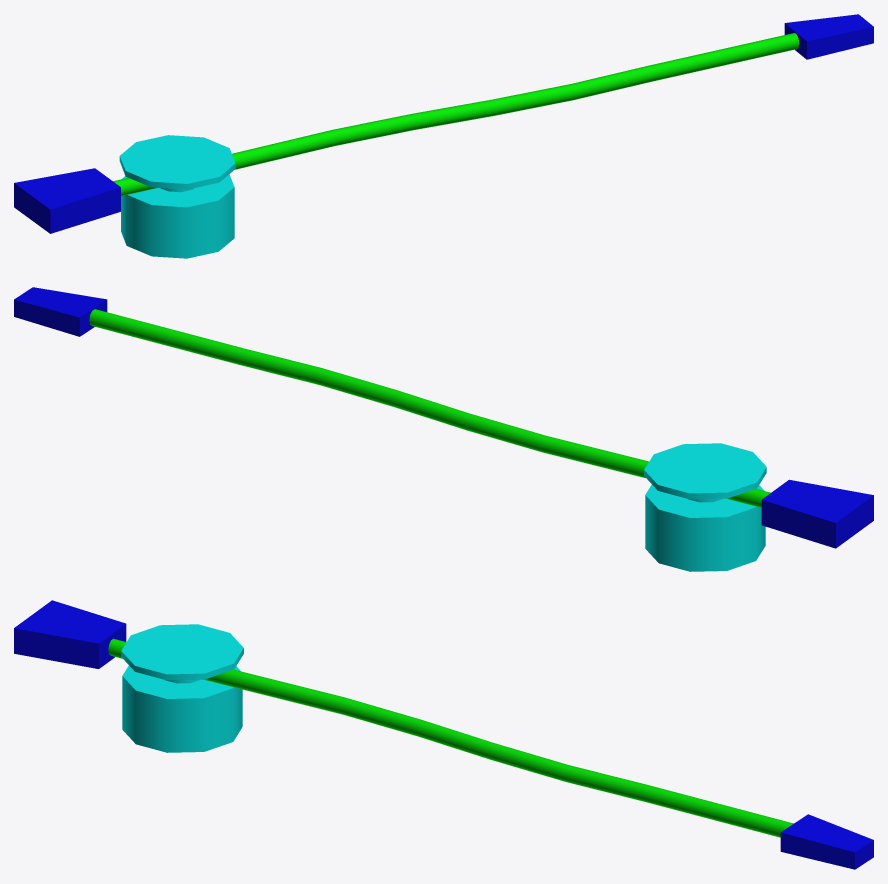
Rendered from Arm.fbx.
The picture shows the model from 3 angles, top to bottom: view 1: azimuth 30°, elevation 25°; view 2: azimuth 150°, elevation 25°; view 3: azimuth 330°, elevation 25°; orthographic projection. The views are drawn at different scales.
Visible parts, largest first — view 1: Arm11; view 2: Arm11; view 3: Arm11.
Part boxes in pixels (x1,y1,x2,y2): Arm11: (14,14,873,258); Arm11: (14,287,873,571); Arm11: (14,600,873,869).
Bounding box in the file's own units: 160 × 14.15 × 19.64.
